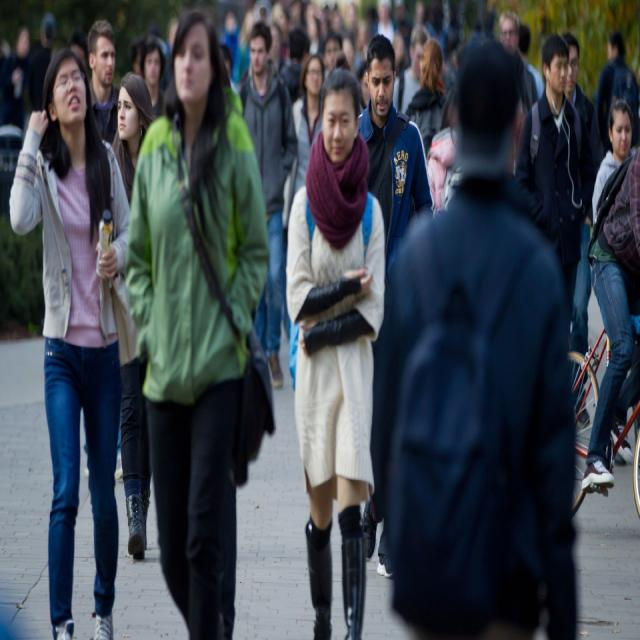body: (366, 25, 585, 639), (123, 9, 271, 640), (7, 40, 138, 639), (283, 50, 387, 639), (353, 28, 436, 580), (165, 0, 498, 73), (111, 71, 160, 565), (238, 18, 299, 390), (514, 29, 590, 318), (582, 147, 640, 497), (560, 30, 606, 430), (0, 0, 87, 119), (281, 51, 328, 232), (496, 7, 541, 191), (594, 25, 640, 160), (592, 97, 636, 230), (404, 38, 450, 160), (425, 83, 463, 214), (85, 16, 122, 146), (392, 22, 432, 118), (515, 18, 545, 112), (139, 34, 167, 121), (277, 72, 304, 107), (354, 72, 368, 115)
